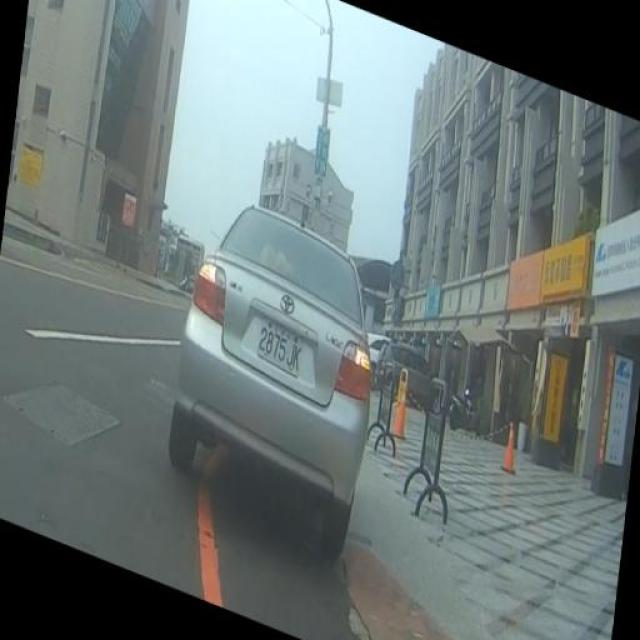illegalparking: (120, 175, 430, 571)
